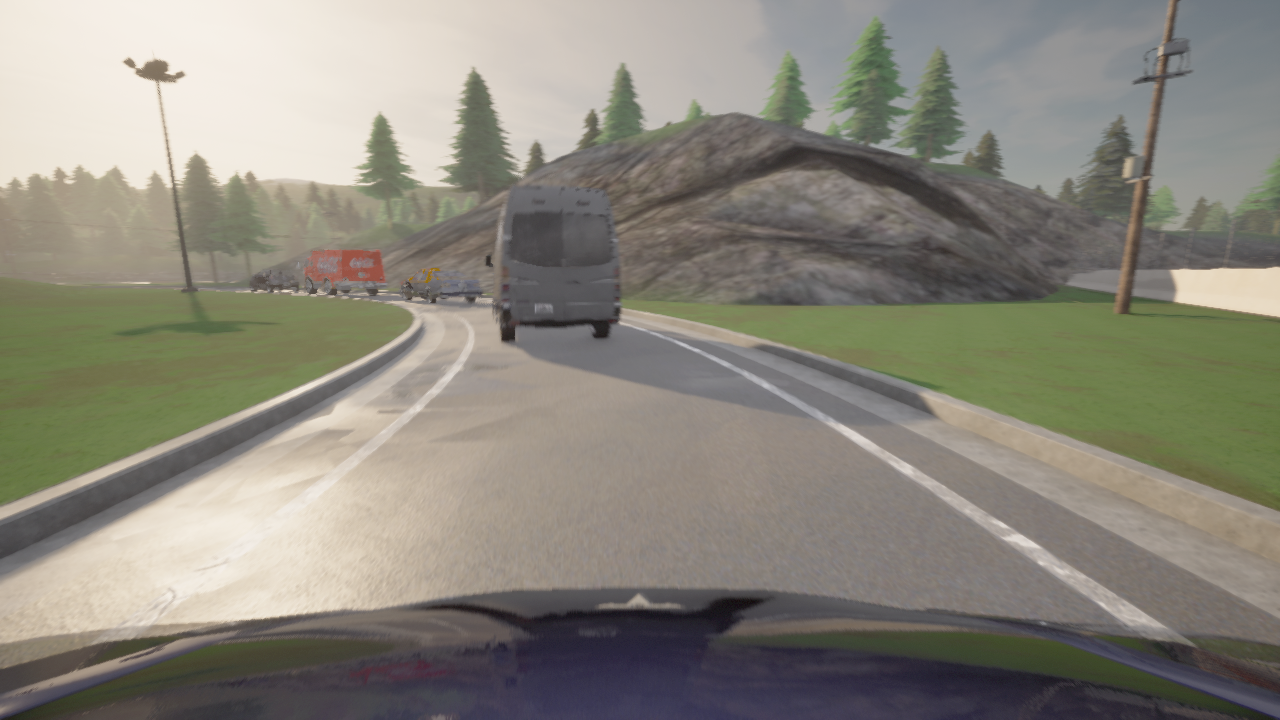cyclist: (0, 588, 1279, 719), (484, 185, 620, 342), (296, 249, 386, 296), (399, 269, 483, 304), (250, 269, 300, 292)
